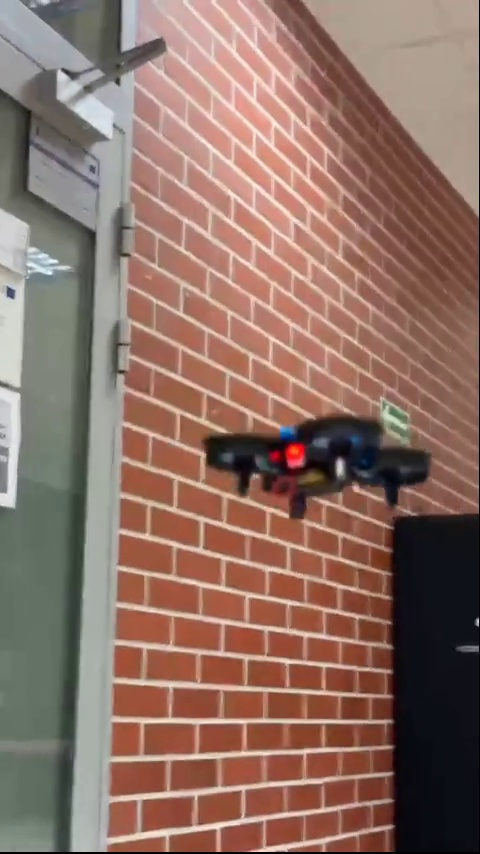drone: (207, 418, 415, 518)
